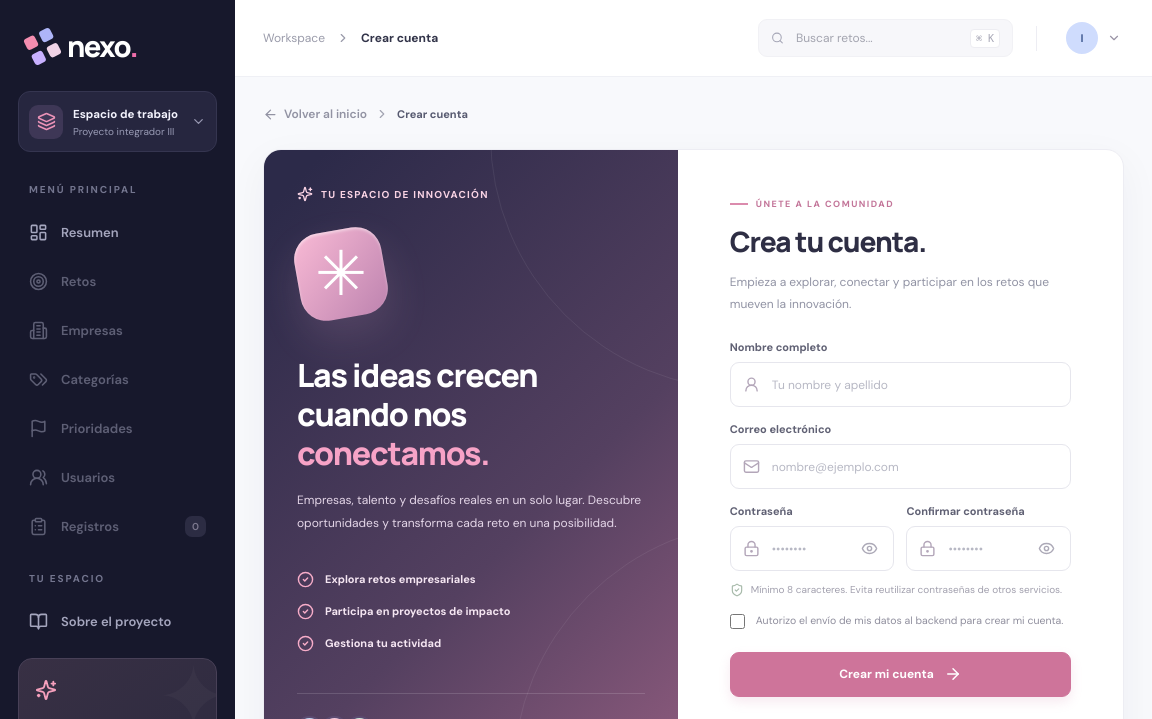
Scenario: PlatformApp · autenticación › registra una cuenta y lleva al resumen
The image size is (1152, 719).
Type "Ana Pérez" into the field with placeholder "Tu nombre y apellido". click: (914, 385)
box: [770,363,1058,406]
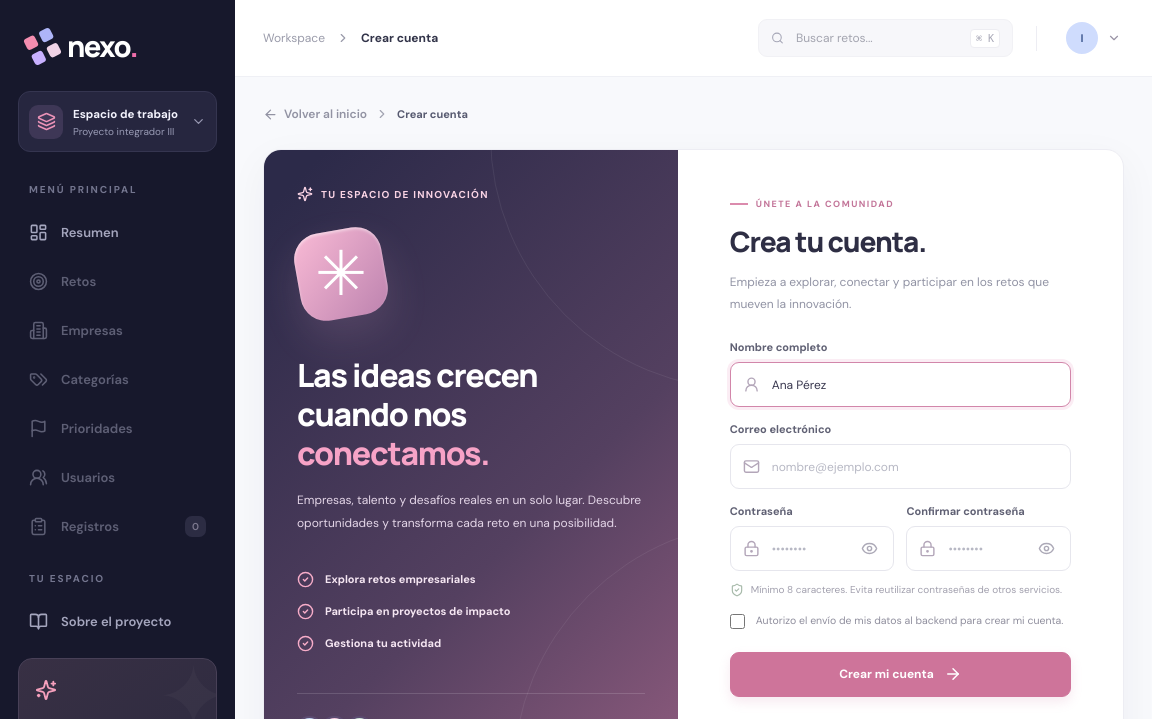
Type "ana@nexo.co" into the field with placeholder "nombre@ejemplo.com". click: (914, 467)
box: [770,445,1058,488]
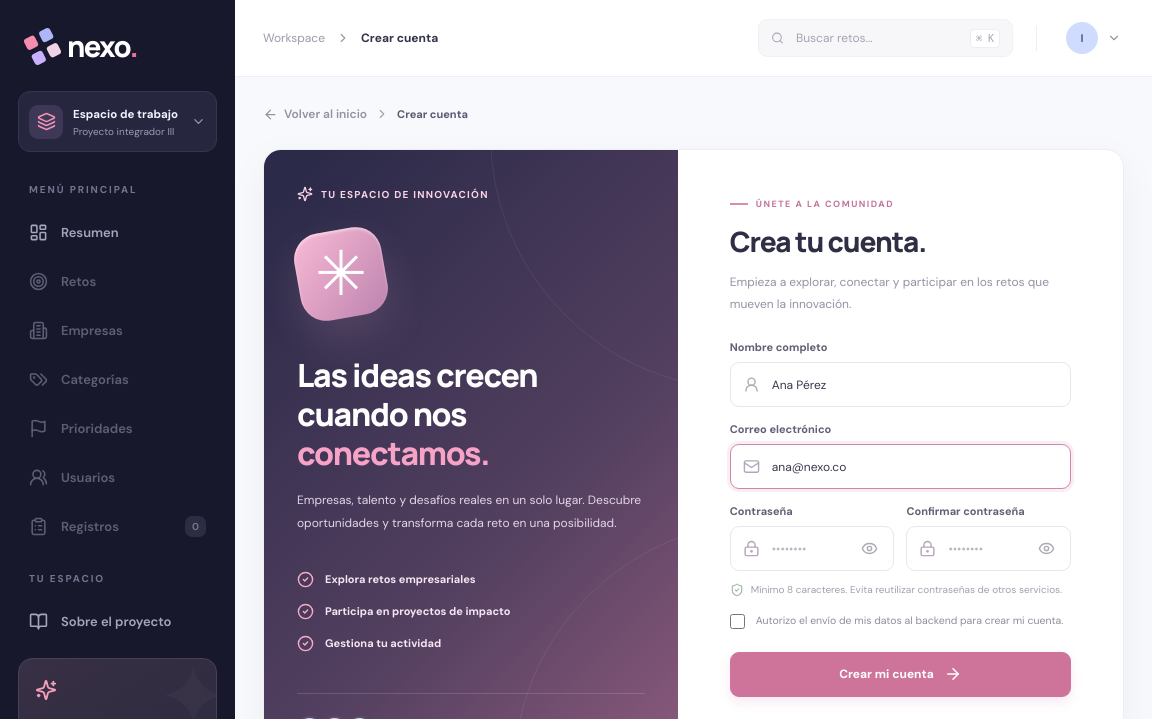
Type "secreta123" into the password field with placeholder "••••••••". click: (809, 549)
box: [770,527,848,570]
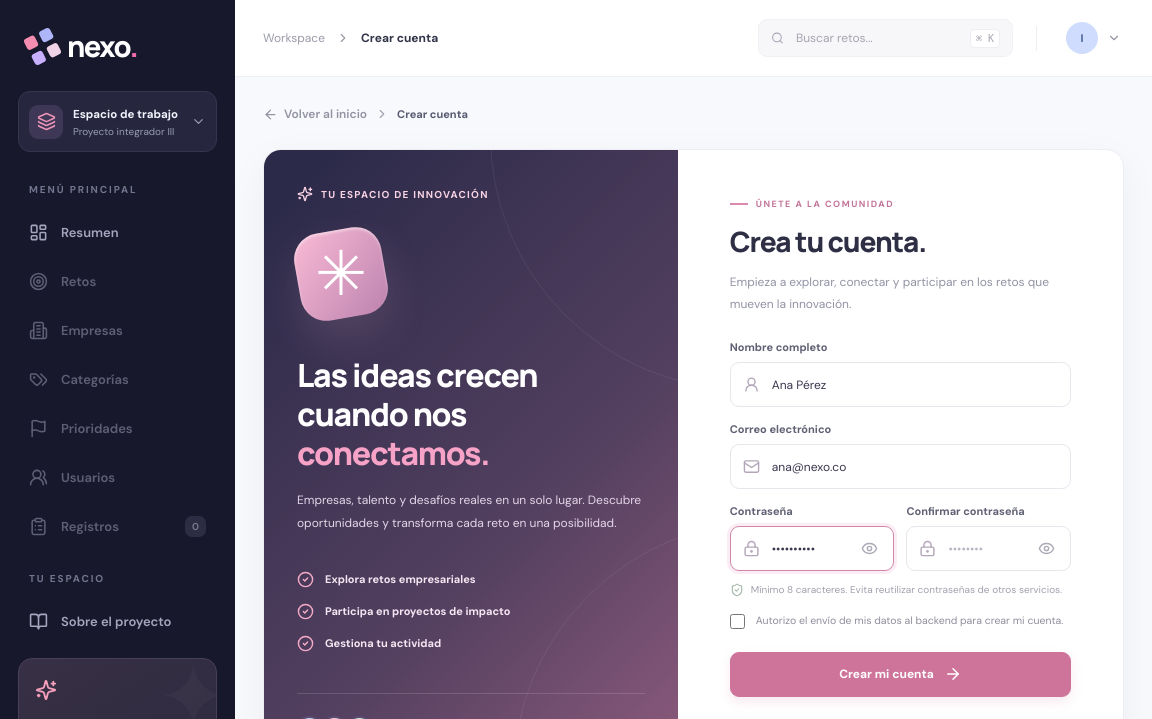
Type "secreta123" into the password field with placeholder "••••••••". click: (986, 549)
box: [946,527,1025,570]
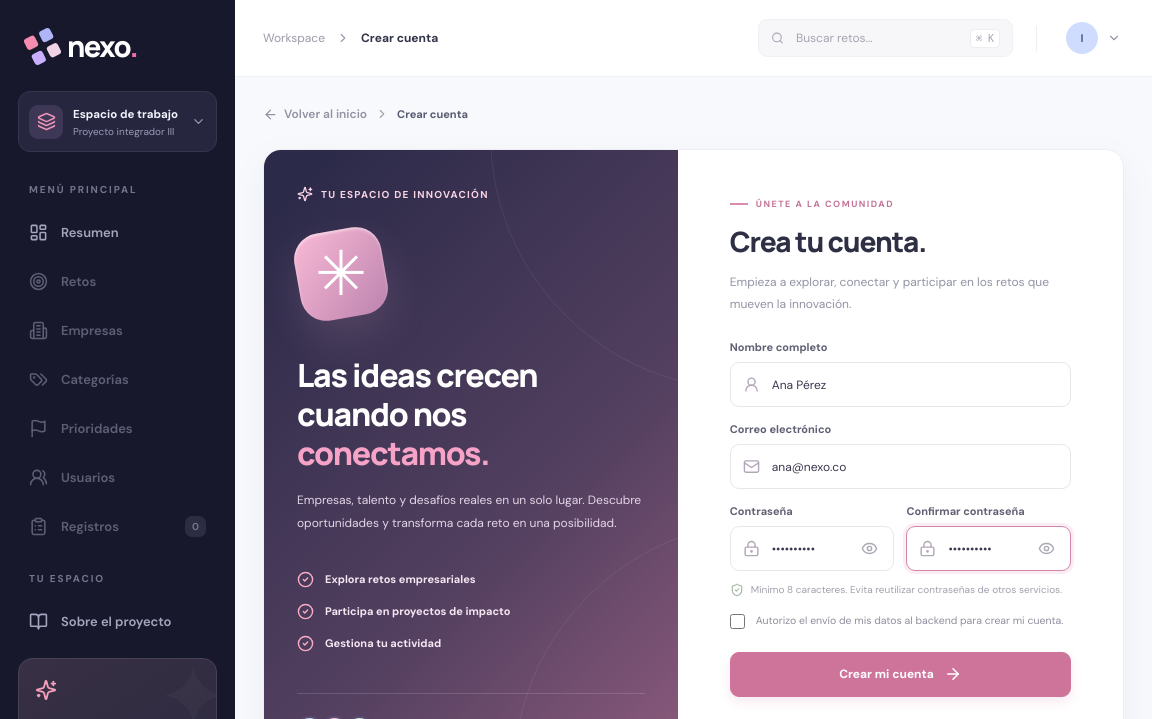
Click the checkbox. click: (737, 622)
box: [730,614,745,629]
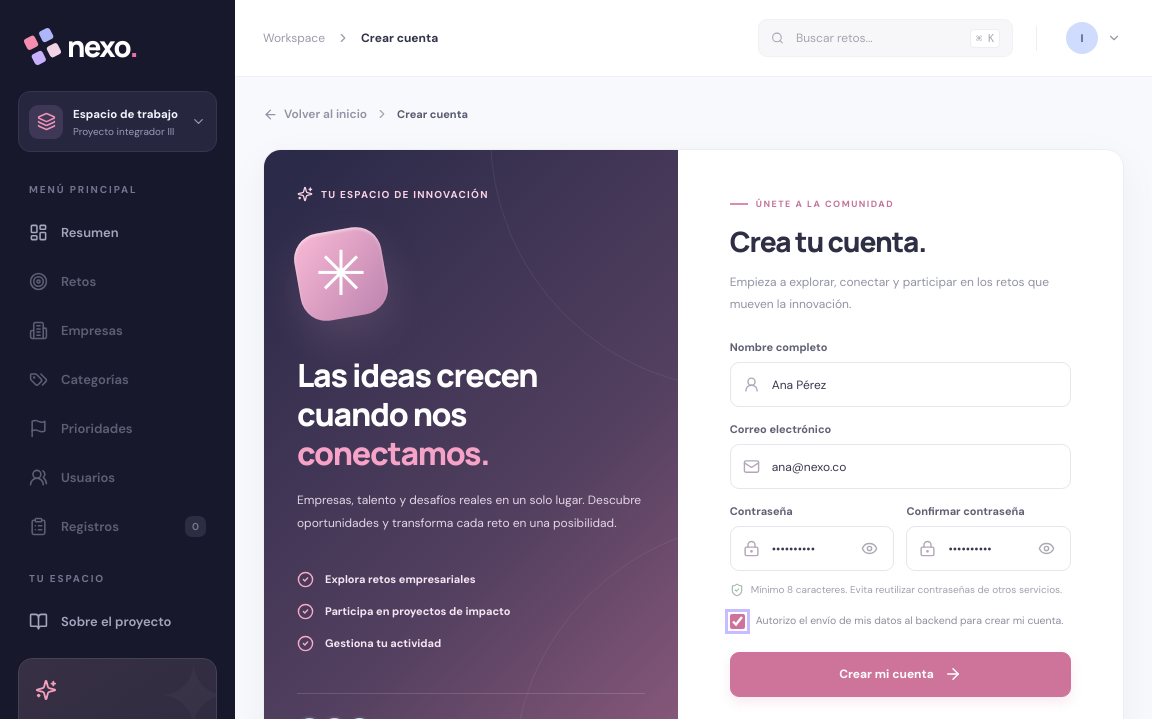
Click the button "Crear mi cuenta". click: (900, 674)
box: [730,652,1071,697]
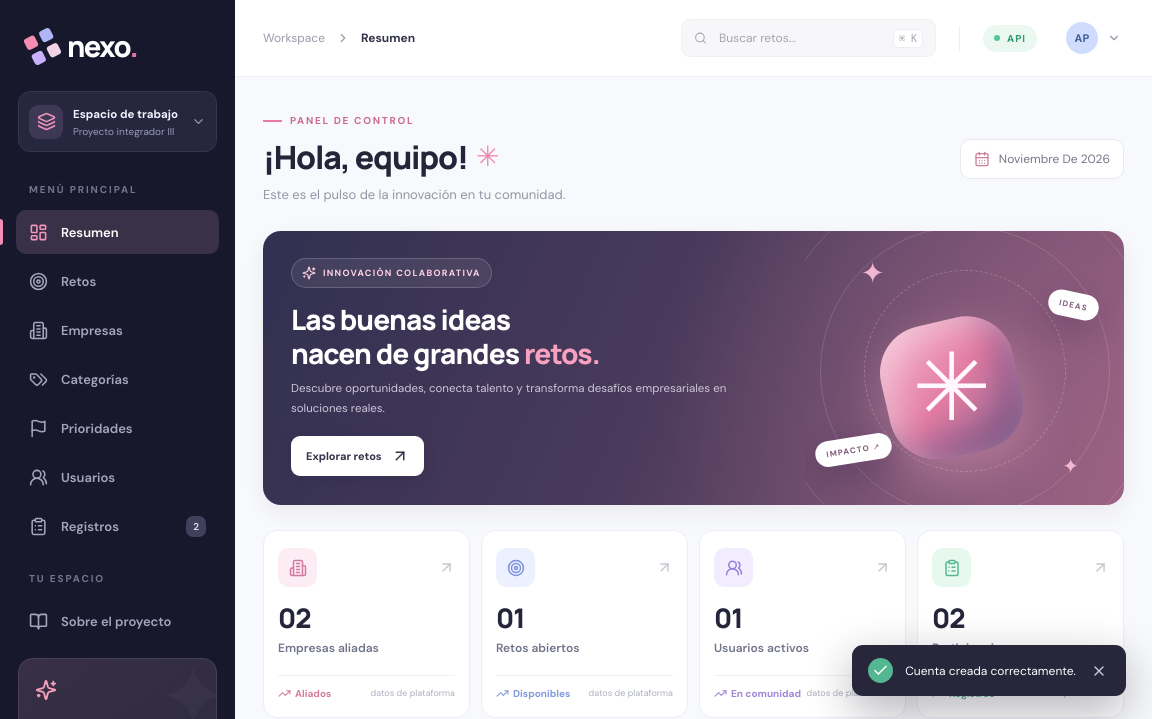
Check: the message reads "Cuenta creada correctamente.", box [905,662,1076,678]
